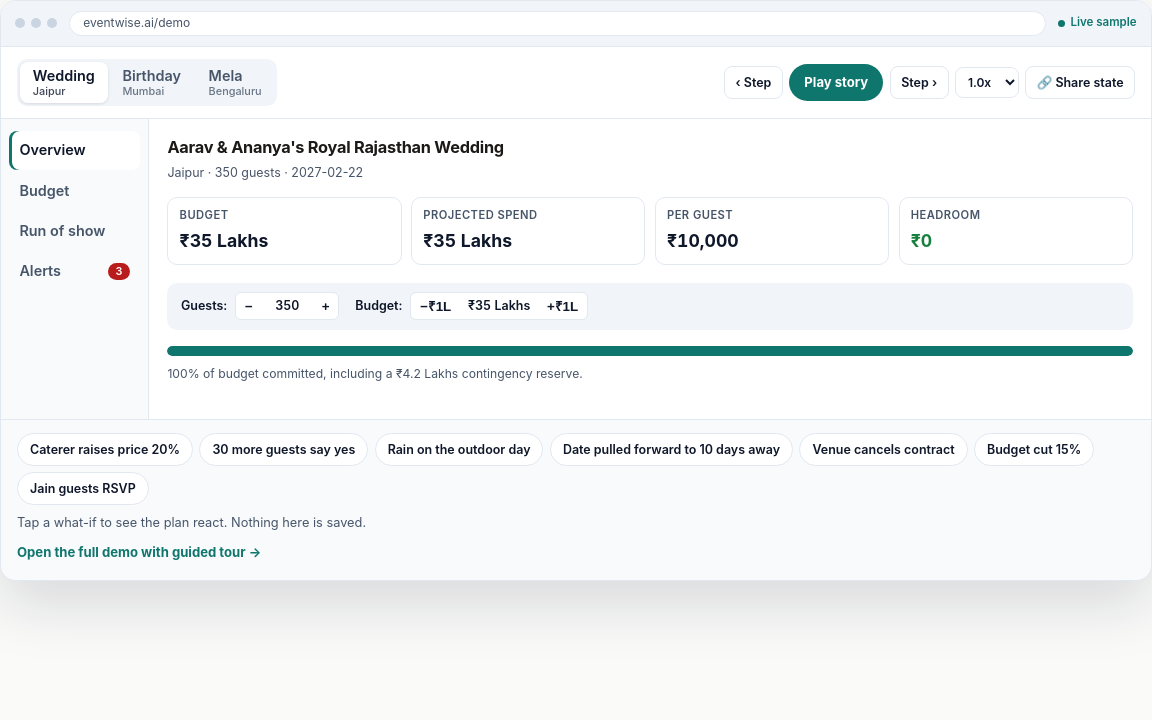
Test: LiveDemoWindow › adjusts guests using interactive visitor stepper
Expected: the text "Jaipur · 350 guests · 2027-02-22" is shown, [167,165,363,180]
Click the button named "Add 25 guests" at (326, 306), box [313,294,338,318]
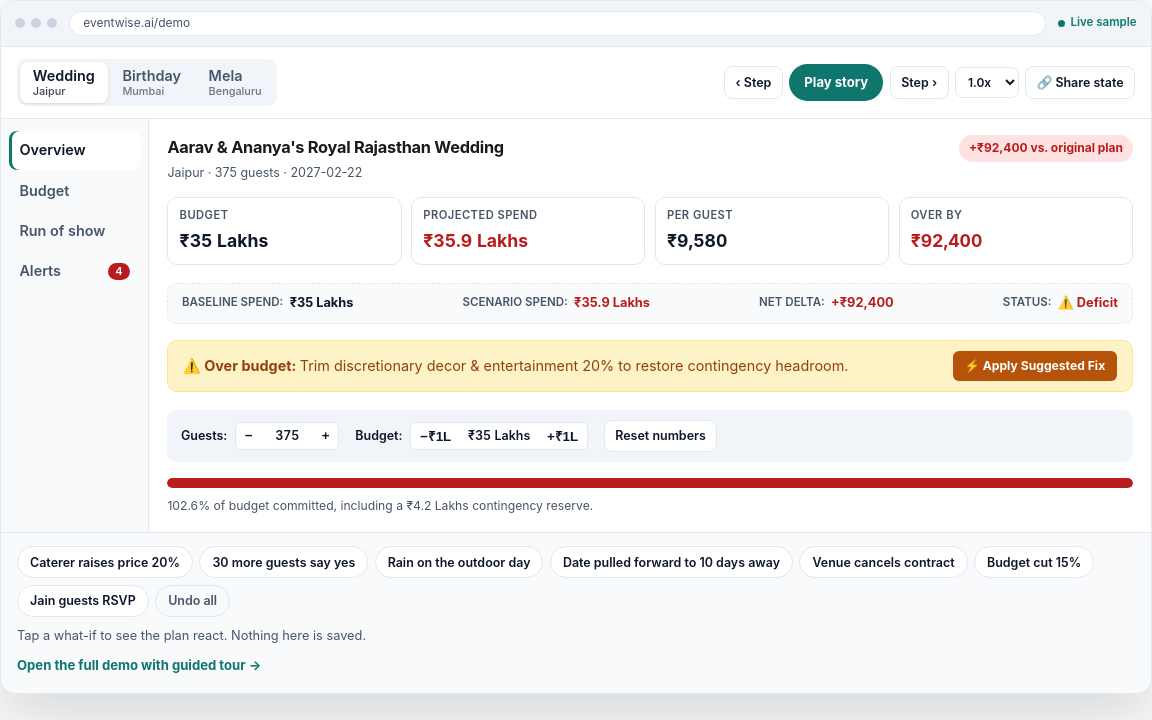
Expected: the text "Jaipur · 375 guests · 2027-02-22" is shown, [167,165,362,180]
Expected: the button "Reset numbers" is shown, [604,420,717,452]
